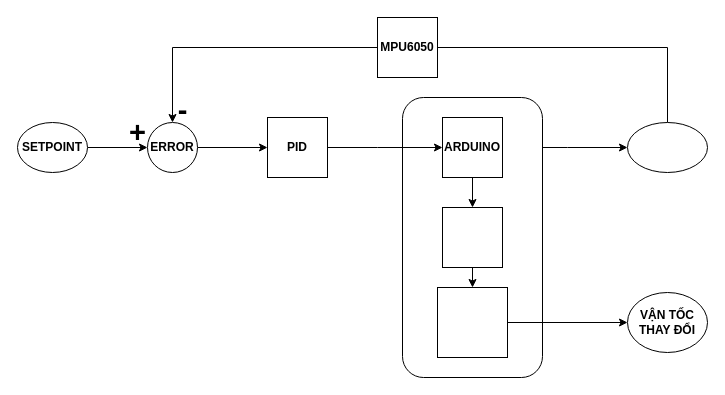
This 725x395 diagram has some shape labels left out. The shapes that lost their labels are listed below. From the top down, each one's box as (x1, y1, x2, y2) in pixels, then its label:
(626, 122, 708, 172): GÓC QUAY
(442, 206, 502, 268): L298
(436, 286, 508, 358): ĐỘNG CƠ GA25
